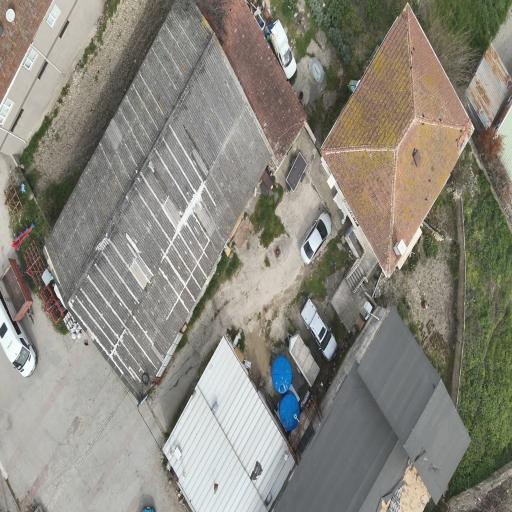car: (0, 295, 37, 377), (301, 298, 337, 360), (270, 20, 296, 79), (301, 213, 331, 264), (142, 507, 155, 511)
